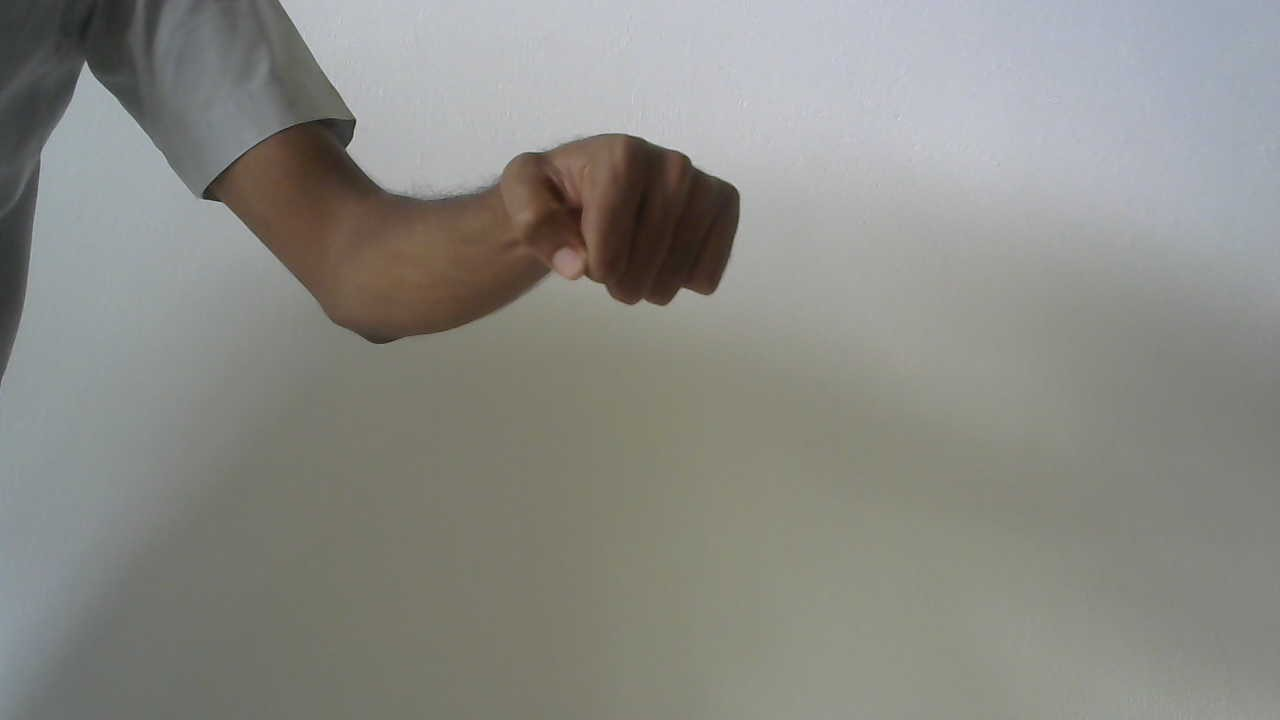yes: (487, 102, 763, 342)
